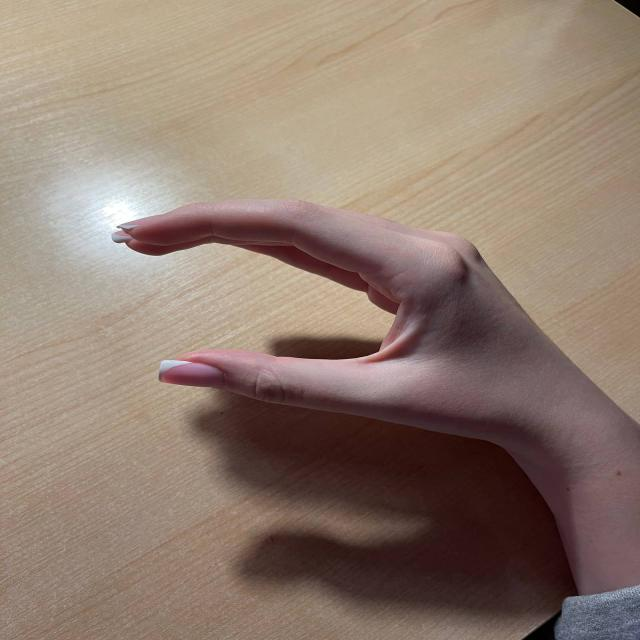s: (104, 184, 566, 488)
